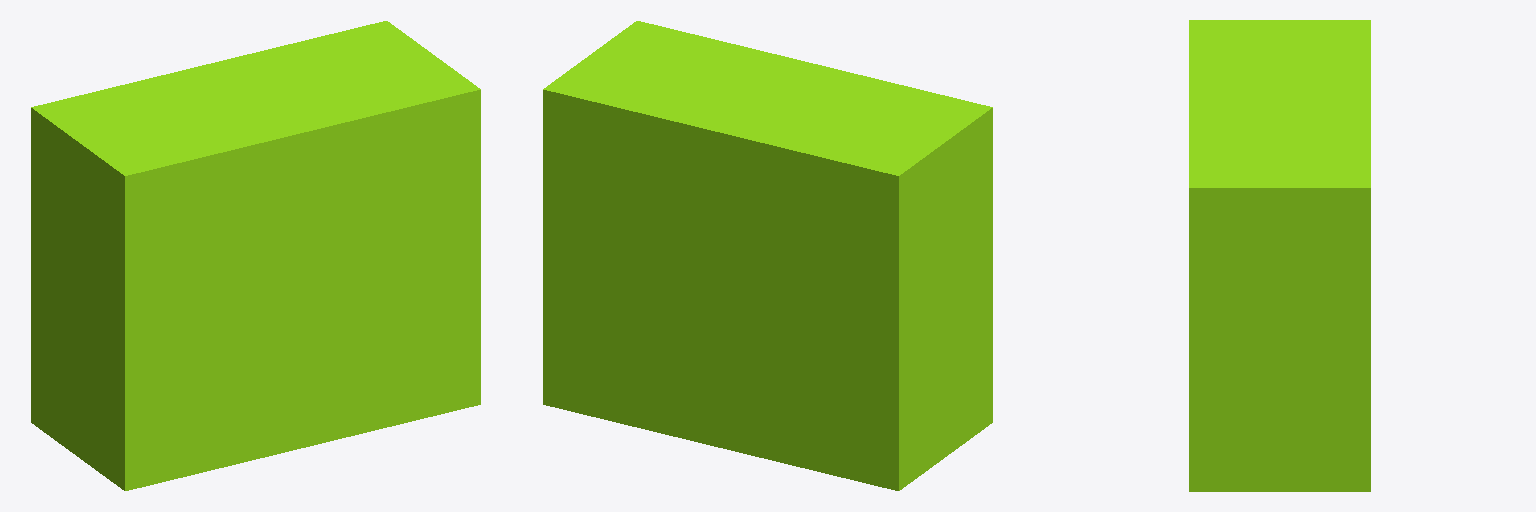
URDF robot description (random_box):
<?xml version='1.0' encoding='UTF-8'?>
<robot name="random_box">
  <link name="box">
    <visual>
      <geometry>
        <box size="0.03545189492006337 0.016243891834621146 0.03"/>
      </geometry>
      <material name="color">
        <color rgba="0.6529401250435345 0.9510562535942396 0.16318030309141363 1"/>
      </material>
    </visual>
    <collision>
      <geometry>
        <box size="0.03545189492006337 0.016243891834621146 0.03"/>
      </geometry>
    </collision>
  </link>
</robot>

--- What the picture shows (computed from the rendered views, not written in the file) ---
Views: 3 orthographic renders of the robot side by side, from view 1: azimuth 30°, elevation 25°; view 2: azimuth 150°, elevation 25°; view 3: azimuth 270°, elevation 25°.
Robot: random_box — 1 links, 0 joints (none); root link box; default pose: every joint at zero.
Visible links, largest first — view 1: box; view 2: box; view 3: box.
Link boxes in pixels (x1,y1,x2,y2): box: (31,21,480,490); box: (543,21,992,490); box: (1189,20,1370,491).
Size in the robot's own frame: 0.0355 by 0.0162 by 0.03 metres.
Geometry: primitives only (box / cylinder / sphere), no mesh files.